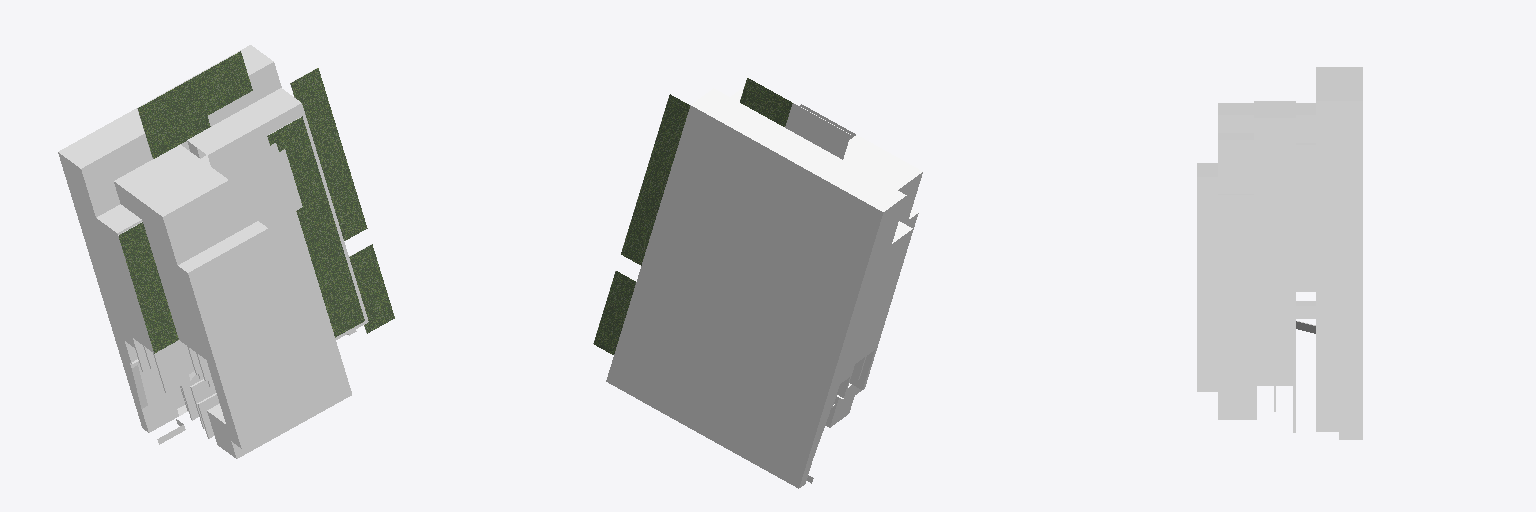
3 renders of one model, left to right at view 1: azimuth 30°, elevation 25°; view 2: azimuth 150°, elevation 25°; view 3: azimuth 270°, elevation 25°, orthographic.
Bounding box in the file's own units: 280 × 327 × 128.
2 materials, 1 textured.